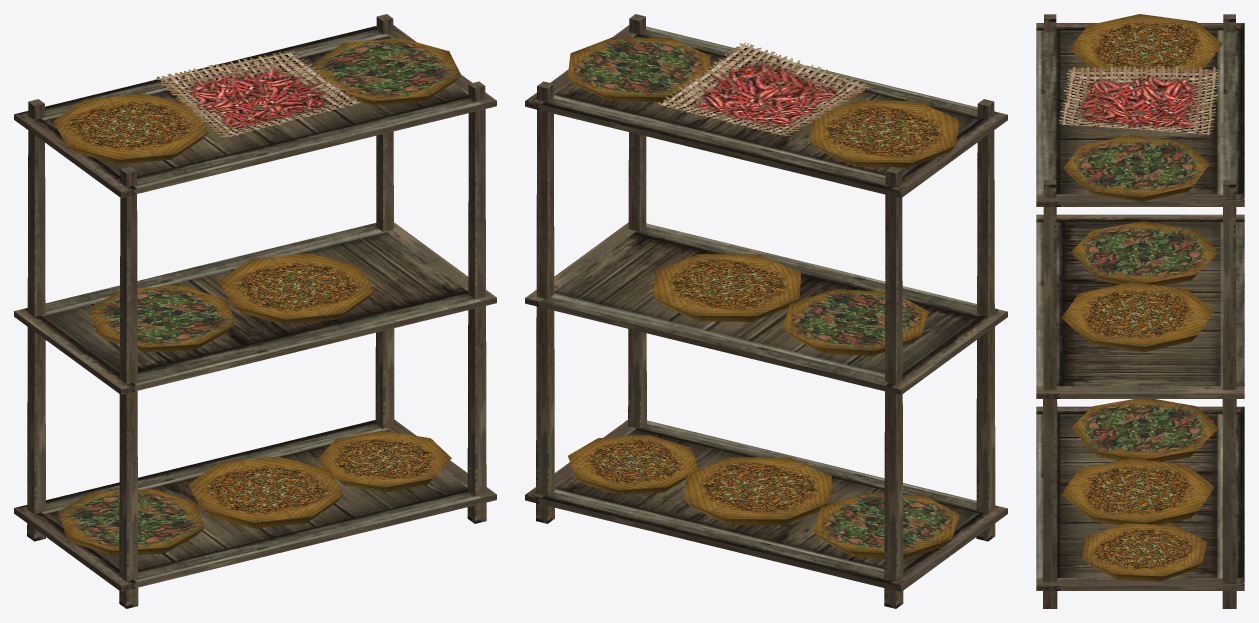
File: yaopu_jiazi_tyc_60.FBX
3 views of the same model, side by side, from view 1: azimuth 30°, elevation 25°; view 2: azimuth 150°, elevation 25°; view 3: azimuth 270°, elevation 25° (orthographic). The views are drawn at different scales.
Parts seen in each view (by area): view 1: yaopu_jiazi_tyc_60; view 2: yaopu_jiazi_tyc_60; view 3: yaopu_jiazi_tyc_60.
Boxes of the visible parts, x1,y1,x2,y2 form: yaopu_jiazi_tyc_60: (14,14,496,608); yaopu_jiazi_tyc_60: (525,14,1007,608); yaopu_jiazi_tyc_60: (1036,14,1244,608).
Size of what is drawn, in the model's own units: 238 by 260 by 114.
